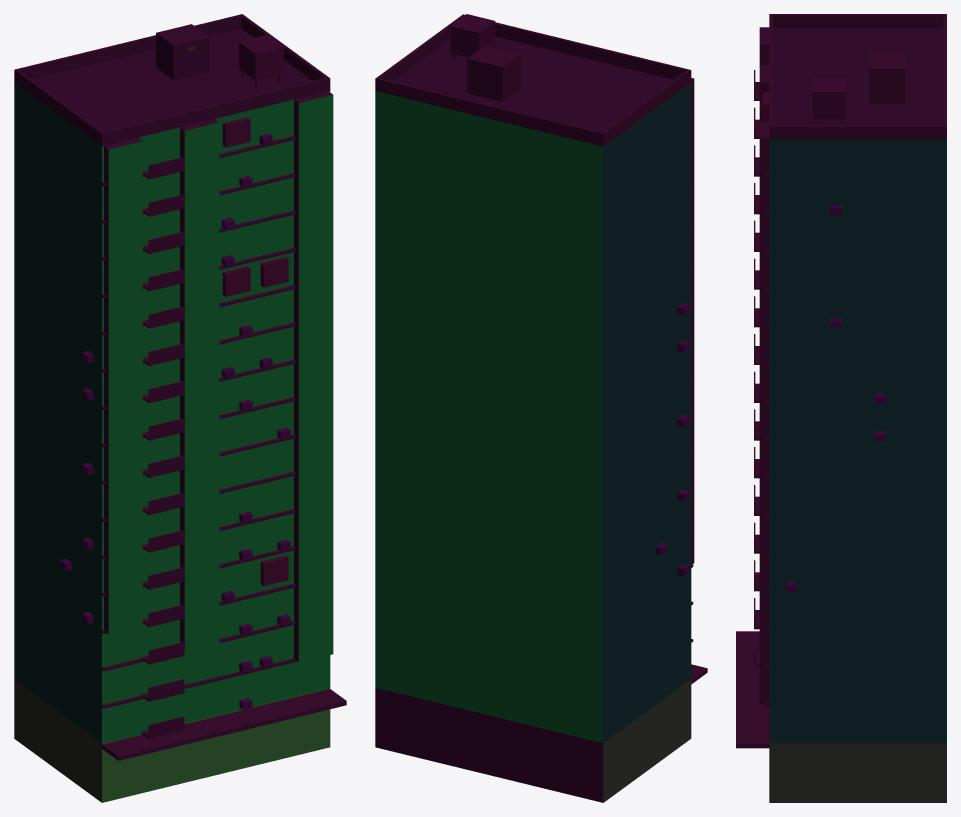
File: slab_a.glb
3 views of the same model, side by side, from view 1: azimuth 30°, elevation 25°; view 2: azimuth 150°, elevation 25°; view 3: azimuth 270°, elevation 25° (orthographic).
Visible parts, largest first — view 1: slab_a; view 2: slab_a; view 3: slab_a.
Part boxes in pixels (x1,y1,x2,y2): slab_a: (14,14,346,802); slab_a: (375,14,707,802); slab_a: (736,14,946,802).
Bounding box in the file's own units: 20.3 × 55.6 × 15.2.
